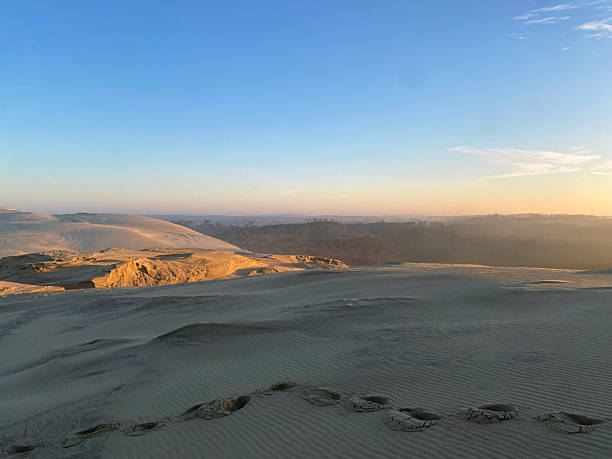human_foot_print: (179, 395, 251, 420), (536, 411, 603, 433), (63, 423, 120, 448), (385, 408, 441, 431), (464, 404, 518, 423), (347, 394, 388, 411), (303, 387, 341, 405), (121, 421, 164, 435)
